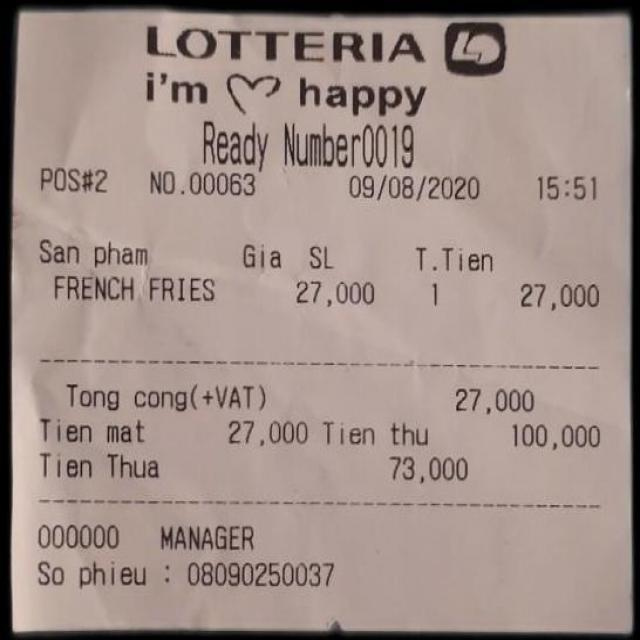Date: (344, 169, 501, 210)
Store_Name: (122, 12, 437, 78)
amount_number: (441, 380, 548, 420)
label_total: (60, 378, 271, 418)
